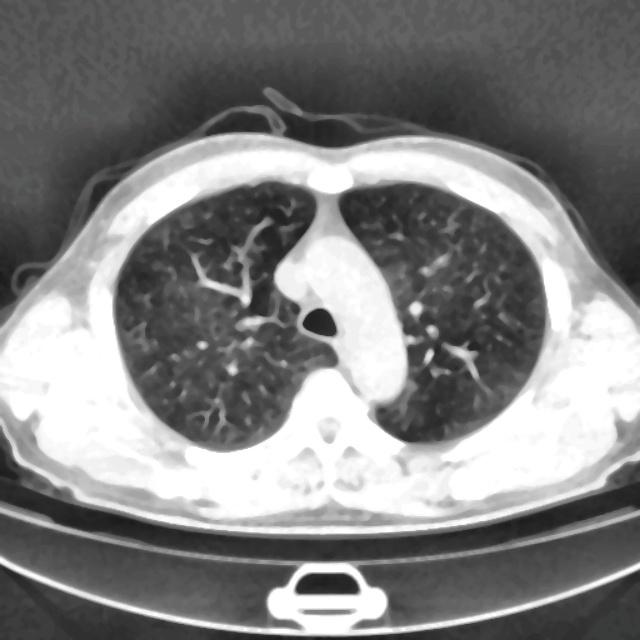covid: (0, 102, 639, 539)
